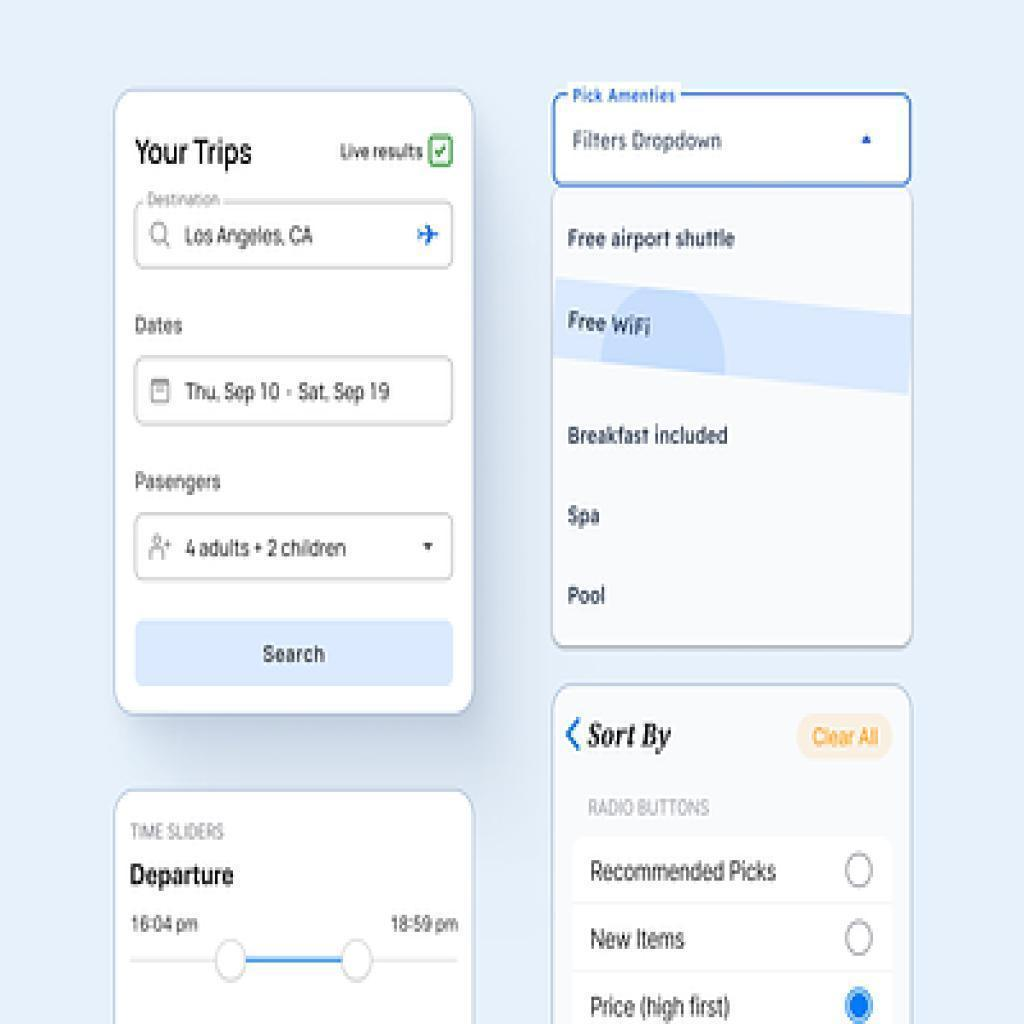button: (134, 620, 451, 688)
checkbox: (429, 135, 454, 169)
dropdown: (555, 93, 913, 186), (135, 513, 452, 579)
icon: (146, 216, 180, 256), (408, 213, 445, 248), (147, 373, 178, 411)
input: (135, 356, 451, 425), (133, 203, 452, 268)
label: (588, 854, 782, 888), (587, 991, 730, 1022), (584, 920, 693, 956)
radio: (841, 982, 878, 1024), (844, 914, 878, 957), (841, 849, 876, 889)
